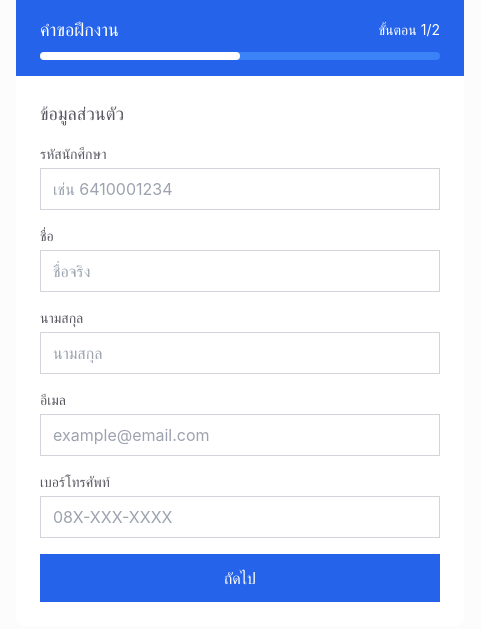
Test: Mobile Form Workflow › Multi-step Form Navigation › allows navigation back to previous step
Note: Fill and proceed to step 2
In the field labelled "รหัสนักศึกษา": (240, 189) x1=40 y1=168 x2=440 y2=210, type "6410001234"
In the field labelled "ชื่อ": (240, 271) x1=40 y1=250 x2=440 y2=292, type "John"
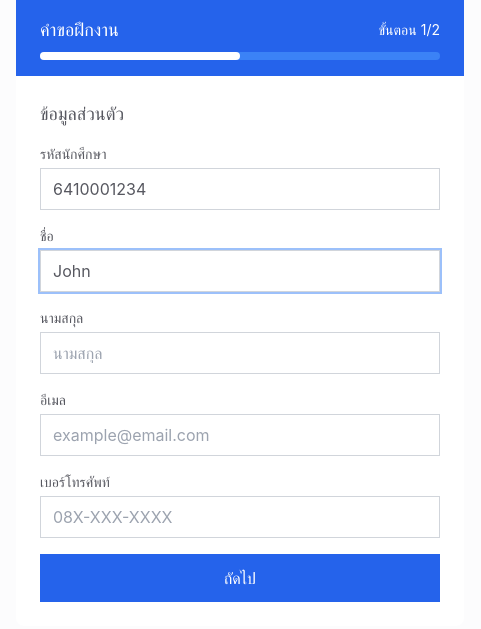
In the field labelled "นามสกุล": (240, 353) x1=40 y1=332 x2=440 y2=374, type "Doe"
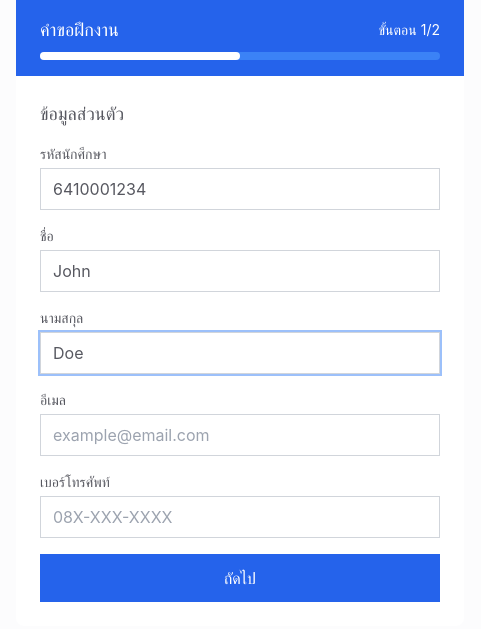
In the field labelled "อีเมล": (240, 435) x1=40 y1=414 x2=440 y2=456, type "john@example.com"
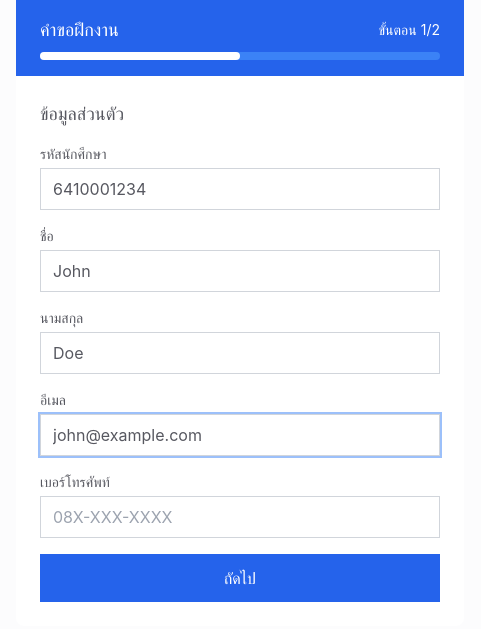
In the field labelled "เบอร์โทรศัพท์": (240, 517) x1=40 y1=496 x2=440 y2=538, type "0812345678"
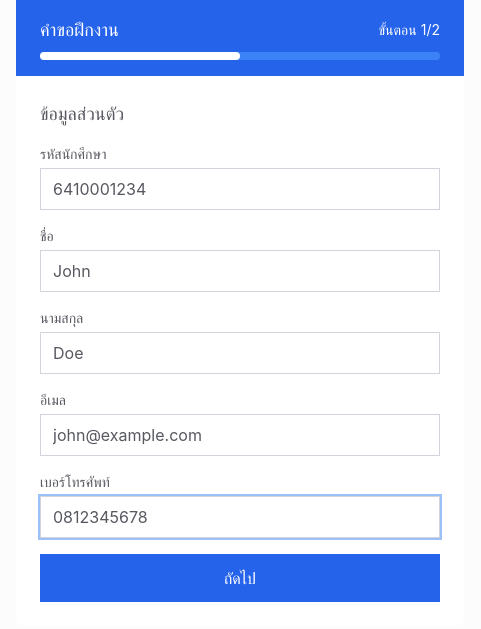
Click the button "ถัดไป": (240, 578) x1=40 y1=554 x2=440 y2=602
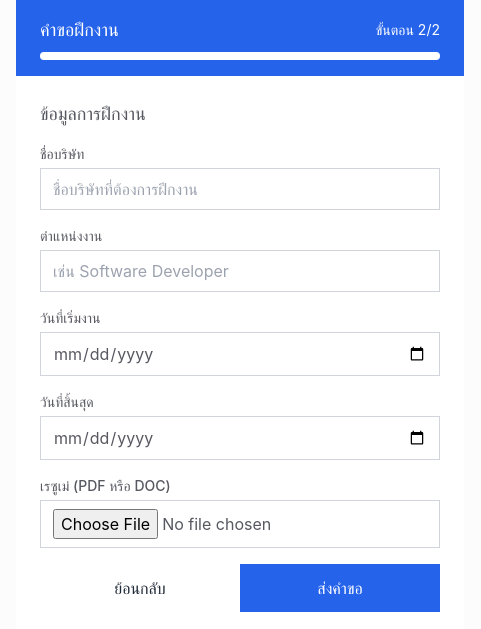
Note: Go back to step 1
Click the button "ย้อนกลับ": (140, 588) x1=40 y1=564 x2=240 y2=612
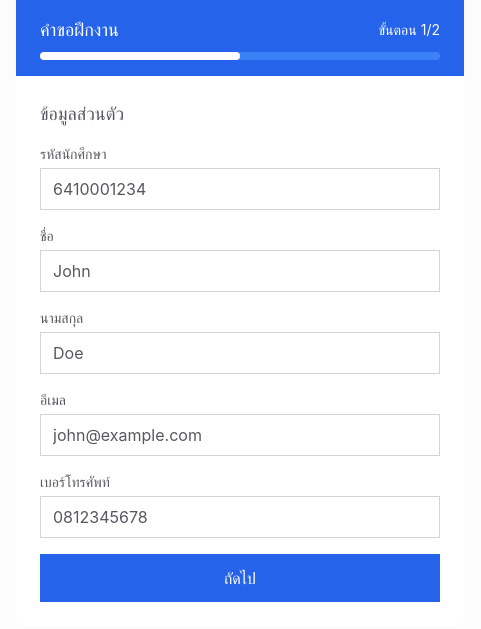
Expected: the text "ขั้นตอน 1/2" is shown, x1=378 y1=20 x2=440 y2=40
Expected: the field showing "6410001234" is shown, x1=40 y1=168 x2=440 y2=210
